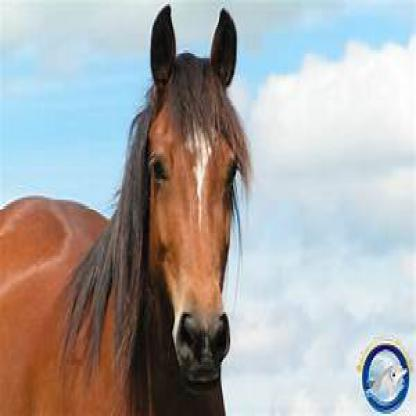horse: (0, 8, 242, 414)
